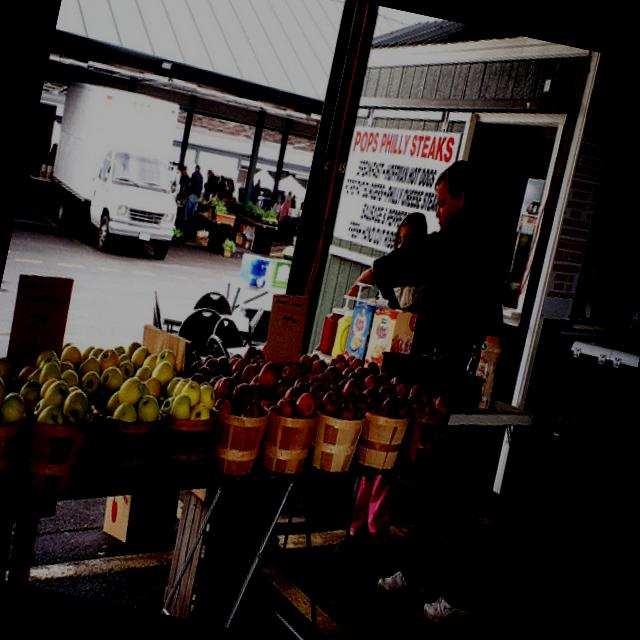Vehicle: (34, 80, 200, 266), (28, 101, 58, 158), (234, 182, 274, 212)
